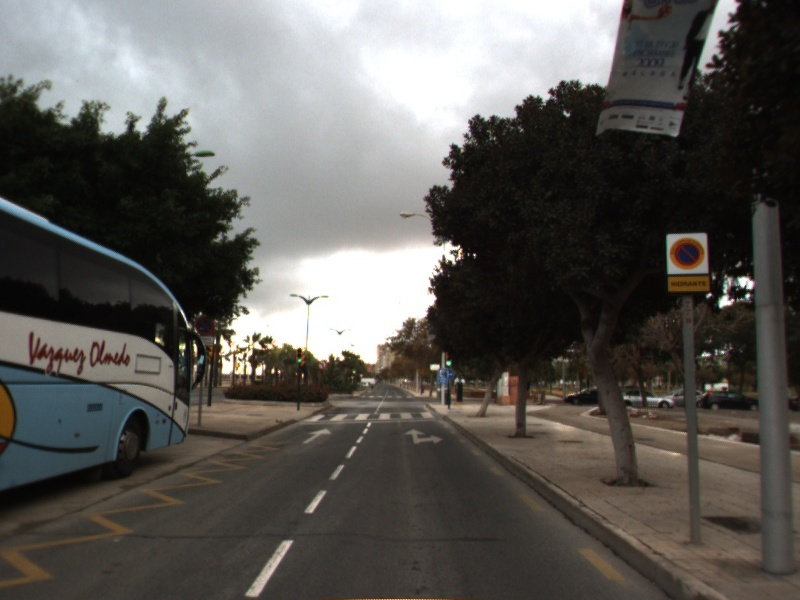STRAIGHT: (300, 426, 334, 446)
STRAIGHT_RIGHT: (401, 426, 446, 446)
